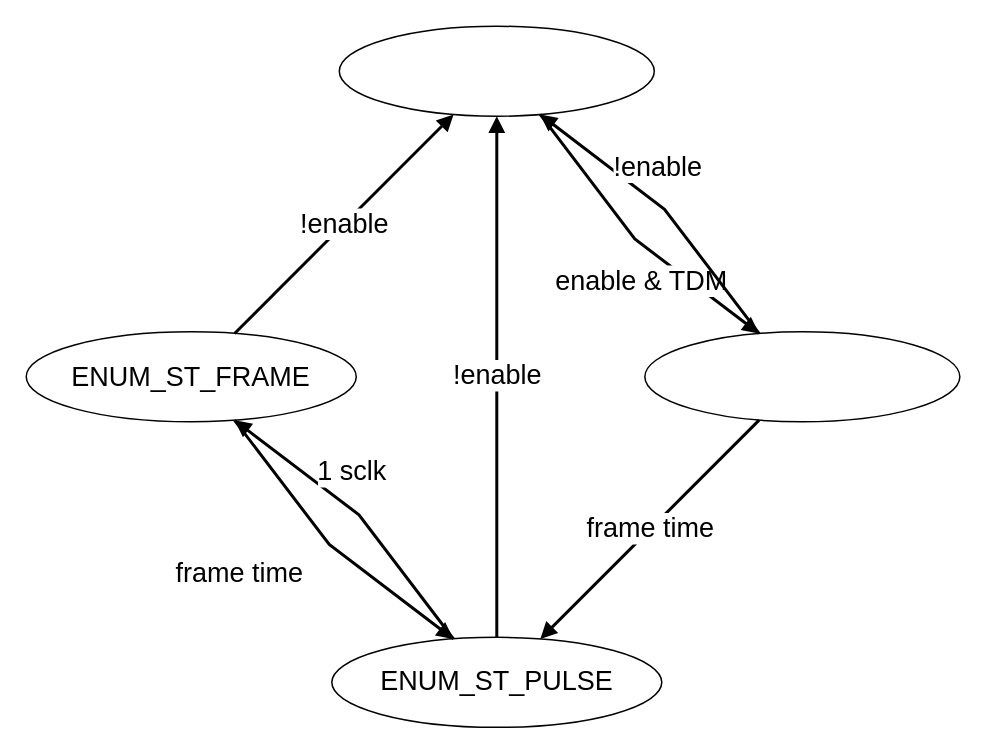
This 987x755 diagram has some shape labels left out. The shapes that lost their labels are listed below. From the top down, each one's centre as x and y in pixels, then its label:
(x=496, y=70): ENUM_ST_IDLE
(x=801, y=376): ENUM_ST_WAIT
